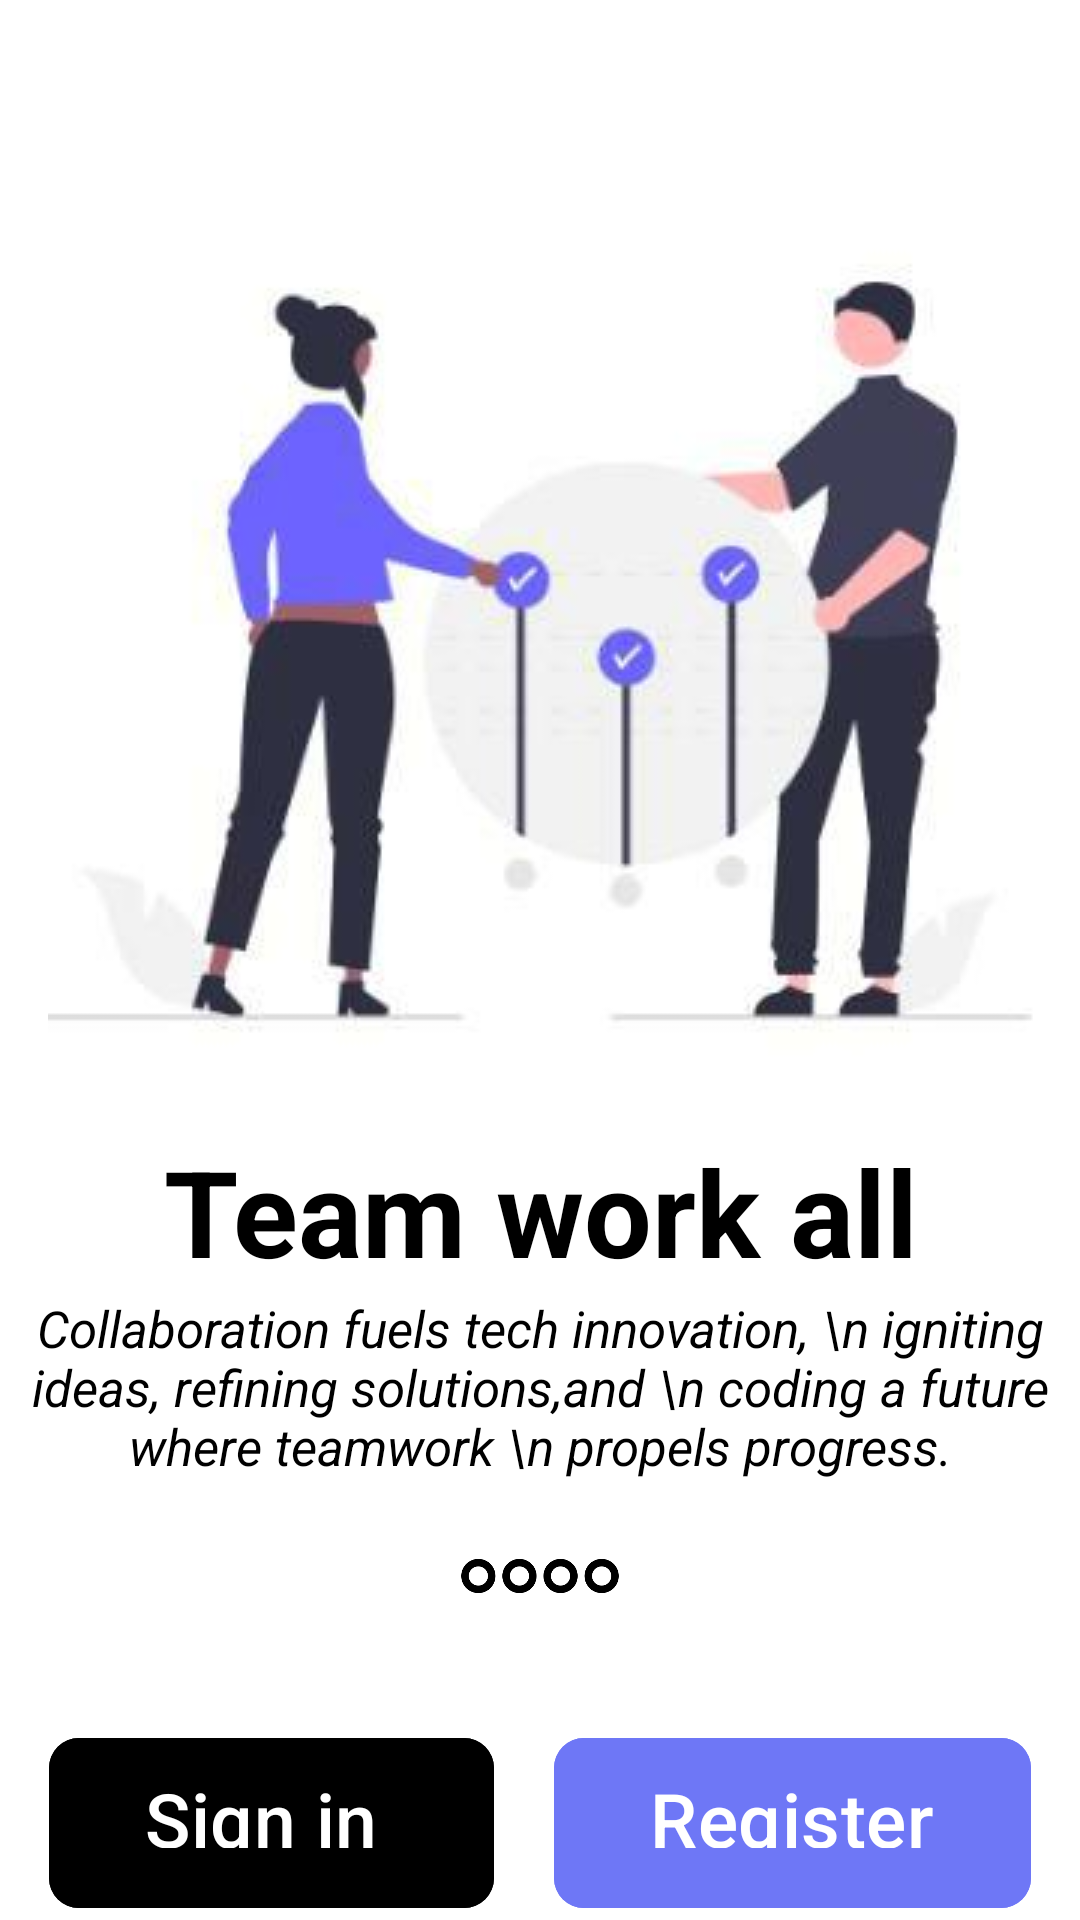

Icons on this 1080 × 1920 Android screen, each with the point to tap as (x=x, y=y):
dot: (x=540, y=1576)
